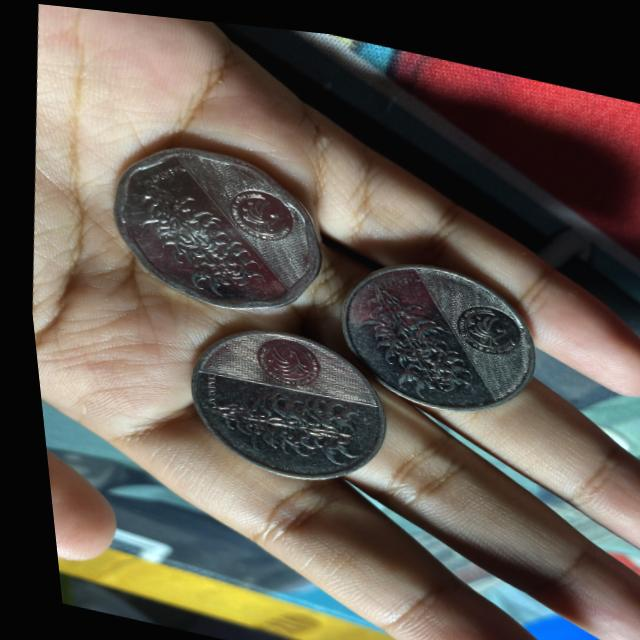5_New_Back: (124, 175, 280, 301), (345, 273, 465, 398), (210, 371, 367, 466)
